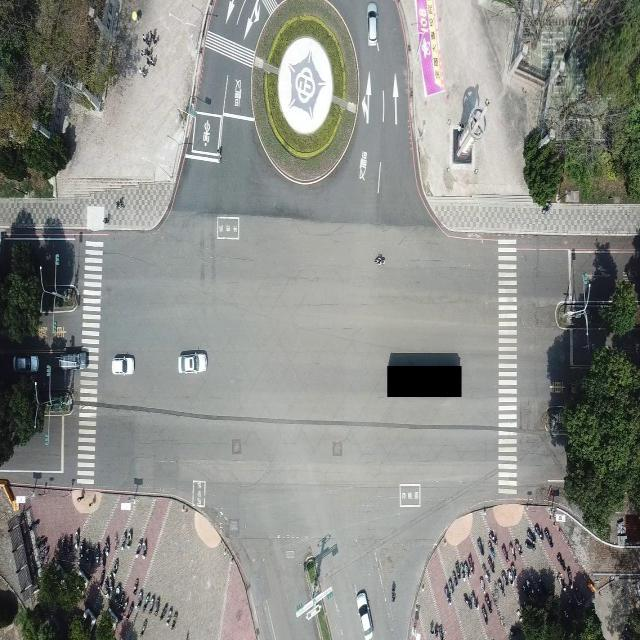bike: (370, 250, 389, 270)
car: (356, 587, 372, 638), (179, 347, 207, 374), (110, 352, 134, 375), (57, 354, 89, 371), (366, 2, 378, 45), (11, 355, 41, 372)
